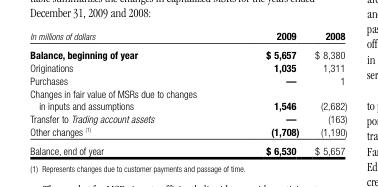table: (29, 29, 346, 155)
table column: (29, 29, 209, 155), (209, 29, 306, 155), (306, 29, 346, 155)
table column header: (29, 29, 346, 44)
table projected row header: (29, 86, 346, 98)
table row: (29, 44, 346, 60), (29, 124, 346, 140), (29, 29, 346, 44), (29, 140, 346, 155), (29, 60, 346, 73), (29, 73, 346, 86), (29, 98, 346, 111), (29, 111, 346, 124), (29, 86, 346, 98)
